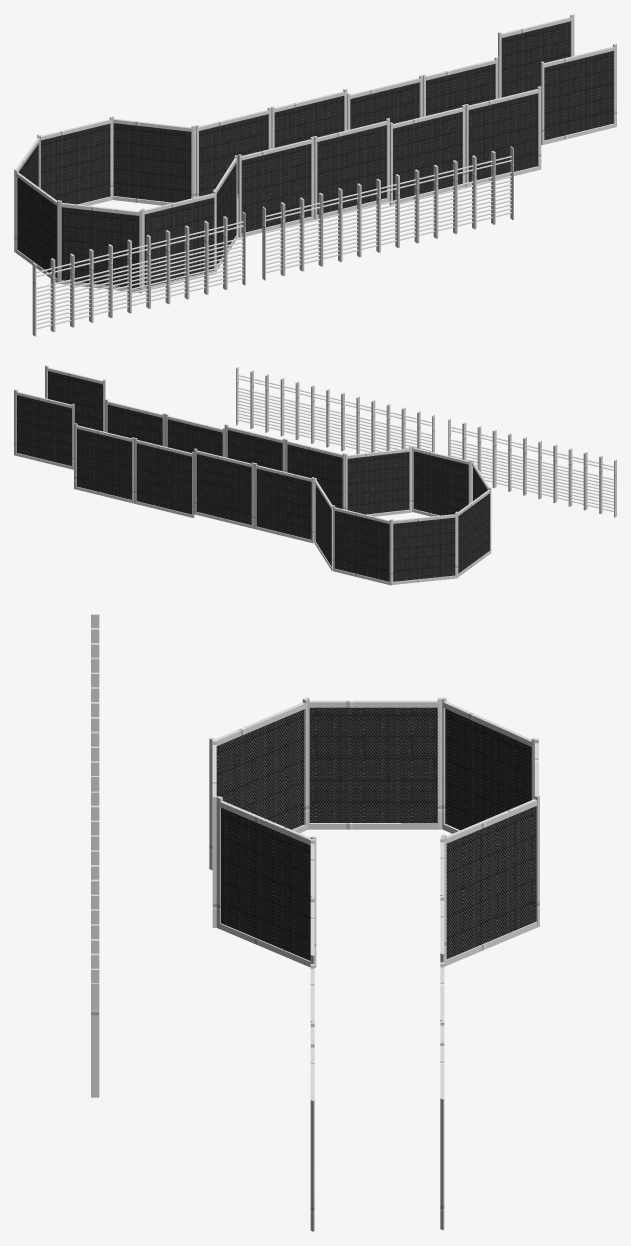
File: CageFight_Fence.fbx
3 renders of one model, top to bottom at view 1: azimuth 30°, elevation 25°; view 2: azimuth 150°, elevation 25°; view 3: azimuth 270°, elevation 25°, orthographic. The views are drawn at different scales.
Parts seen in each view (by area): view 1: konrad_cageFight_metal_fence_model; view 2: konrad_cageFight_metal_fence_model; view 3: konrad_cageFight_metal_fence_model.
Boxes of the visible parts, x1,y1,x2,y2 form: konrad_cageFight_metal_fence_model: (14, 14, 616, 336); konrad_cageFight_metal_fence_model: (14, 365, 616, 585); konrad_cageFight_metal_fence_model: (91, 614, 539, 1231).
Bounding box in the file's own units: 34.06 × 5.31 × 12.82.
